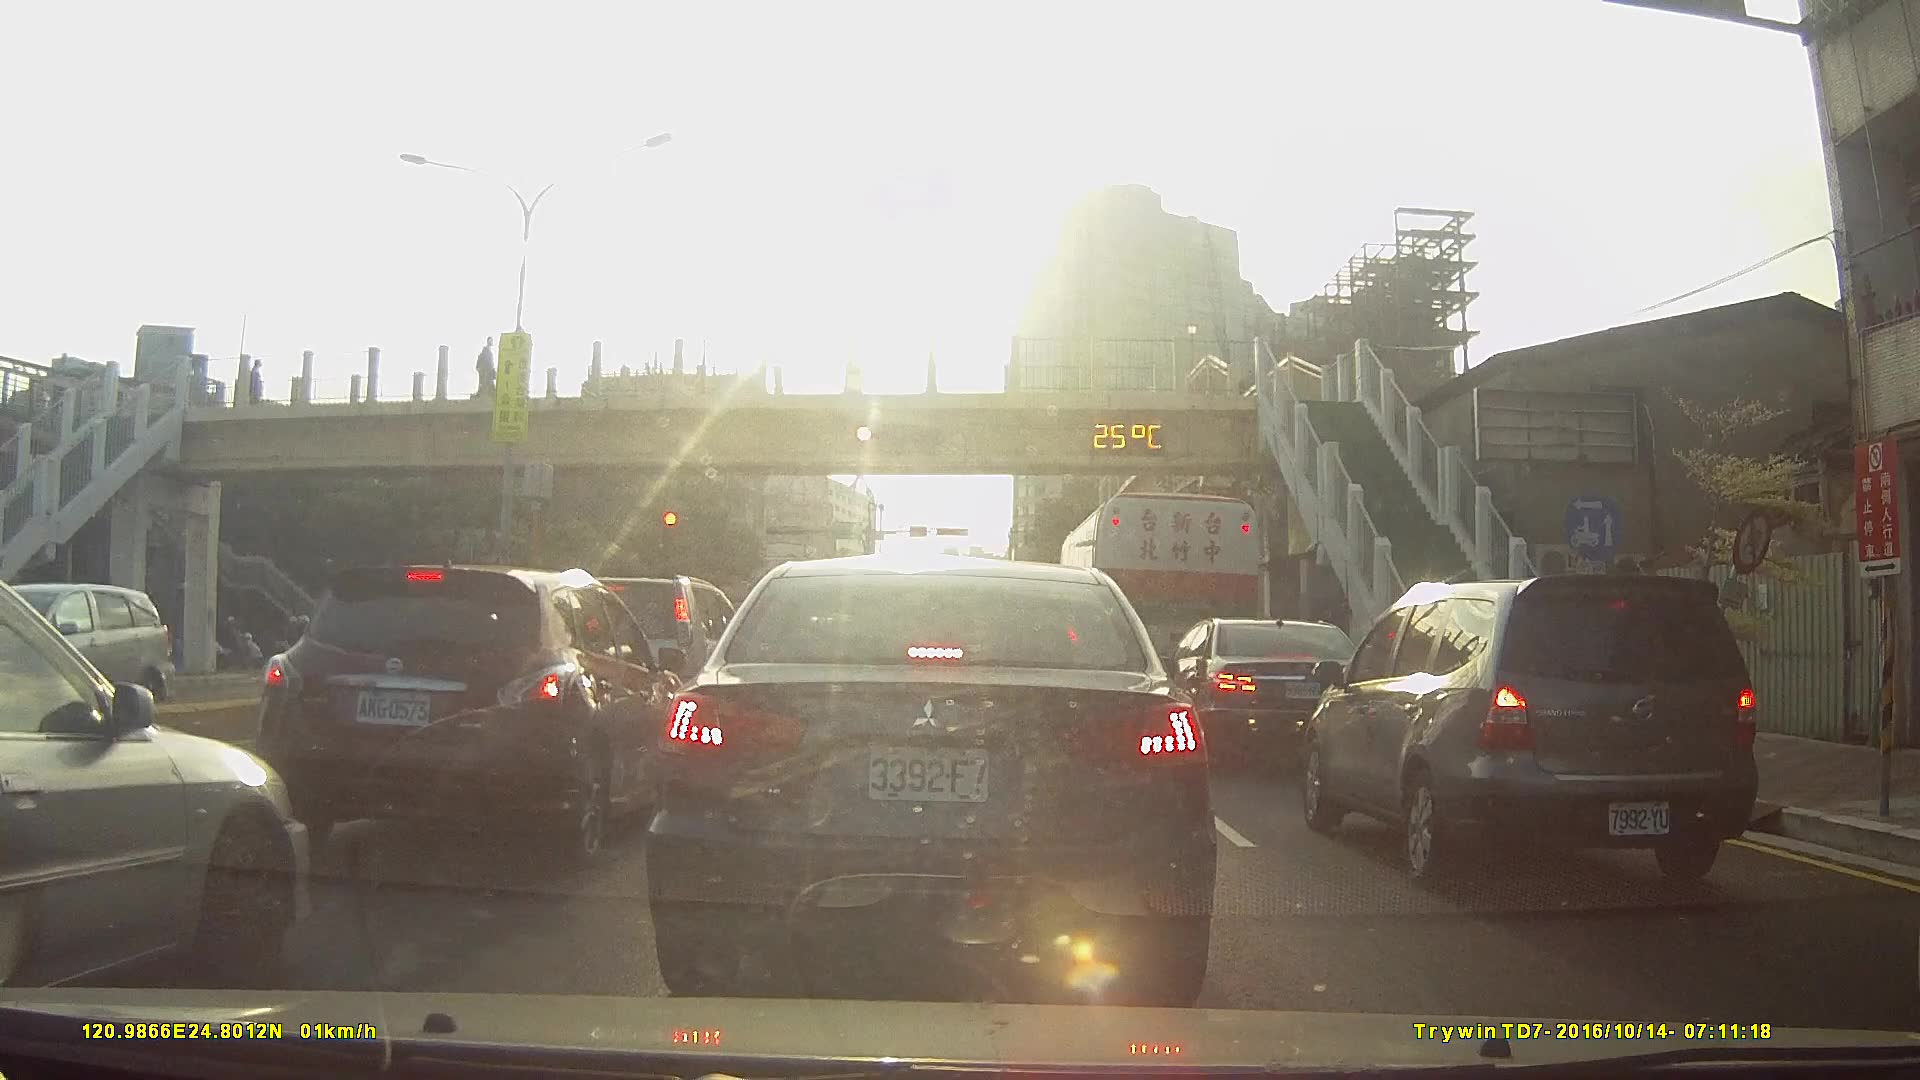pedestrian: (471, 339, 497, 401), (242, 361, 269, 415)
rider: (195, 614, 268, 674)
vehicle: (644, 554, 1218, 1014), (1300, 572, 1758, 892), (255, 561, 687, 868), (0, 578, 313, 991), (1155, 616, 1369, 770), (1, 584, 184, 717)
